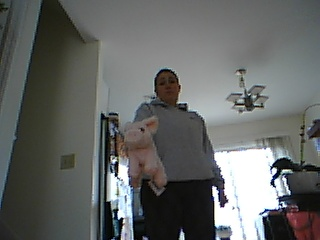piggy: (121, 115, 170, 191)
